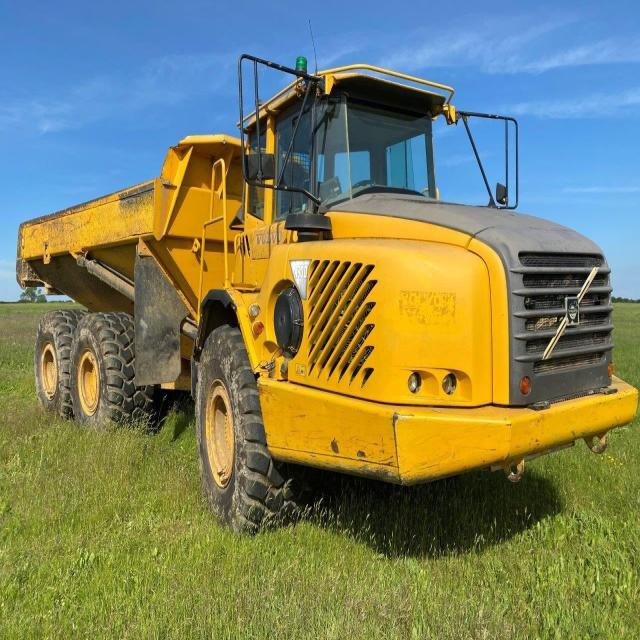dump_truck: (16, 57, 640, 534)
